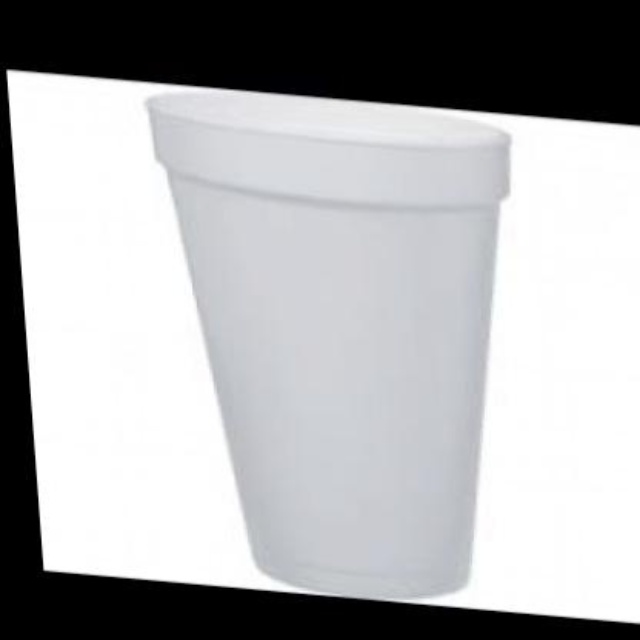trash: (148, 92, 509, 597)
